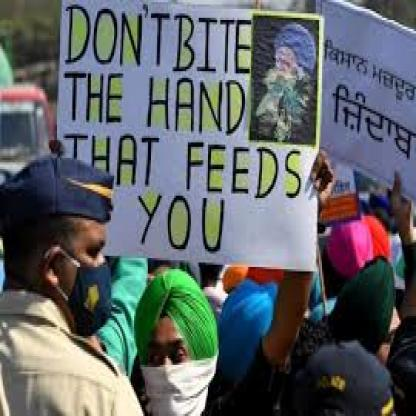BANNER: (55, 0, 416, 363)
